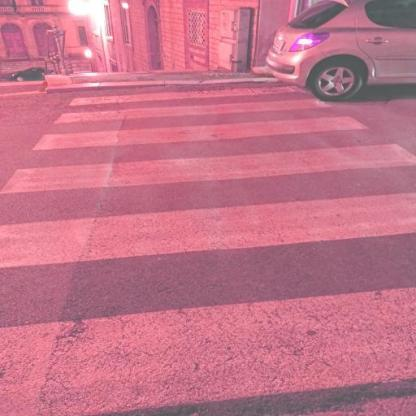crosswalk: (2, 191, 416, 415), (25, 95, 380, 154)
